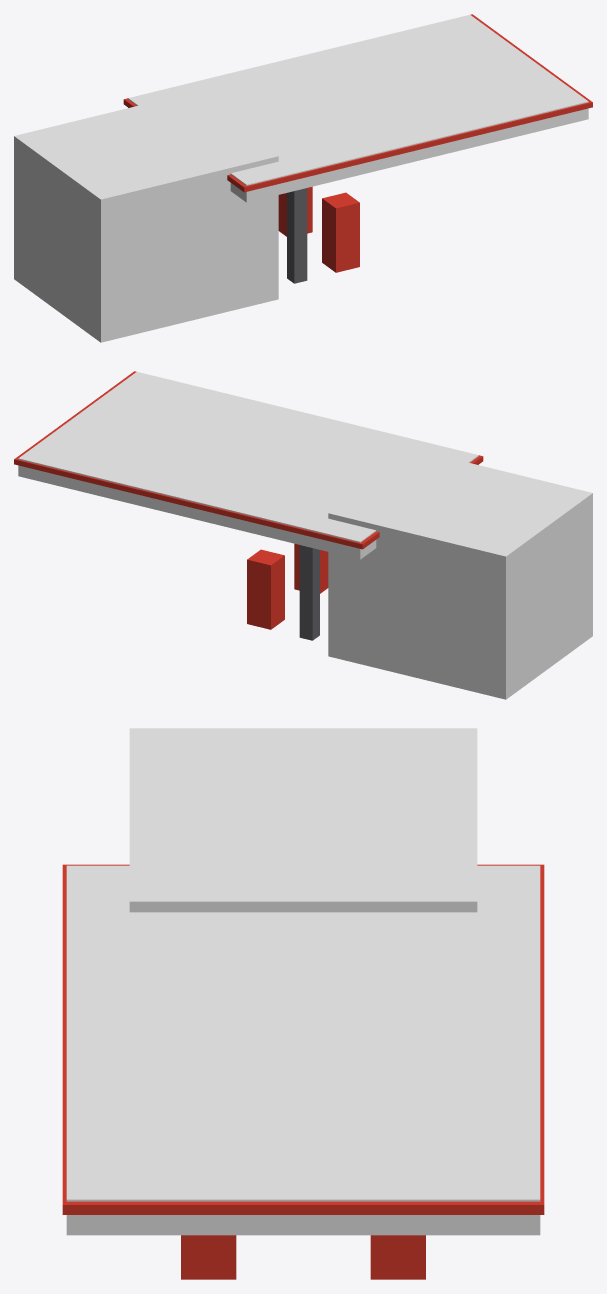
The model's file is gas_station.dae.
3 views of the same model, one above another, from view 1: azimuth 30°, elevation 25°; view 2: azimuth 150°, elevation 25°; view 3: azimuth 270°, elevation 25° (orthographic). The views are drawn at different scales.
Visible parts, largest first — view 1: shop, canopy, stripe, pump_b, col_right, pump_a; view 2: shop, canopy, stripe, pump_a, col_left, pump_b; view 3: canopy, shop, stripe, pump_a, pump_b.
Part boxes in pixels (x1,y1,x2,y2): shop: [14, 92, 278, 342]; canopy: [128, 15, 588, 202]; stripe: [123, 14, 592, 192]; pump_b: [322, 192, 359, 272]; col_right: [287, 188, 307, 283]; pump_a: [278, 186, 312, 236]; shop: [328, 449, 592, 699]; canopy: [18, 372, 478, 559]; stripe: [14, 371, 483, 549]; pump_a: [247, 549, 284, 629]; col_left: [299, 545, 319, 640]; pump_b: [294, 543, 328, 593]; canopy: [66, 865, 540, 1235]; shop: [129, 728, 477, 912]; stripe: [62, 864, 544, 1214]; pump_a: [370, 1235, 425, 1279]; pump_b: [181, 1235, 236, 1279].
Bounding box in the file's own units: 13.9 × 6.1 × 4.
